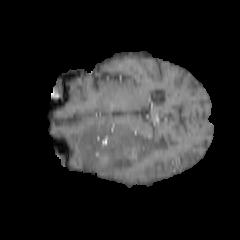glioma: (77, 122, 158, 175)
